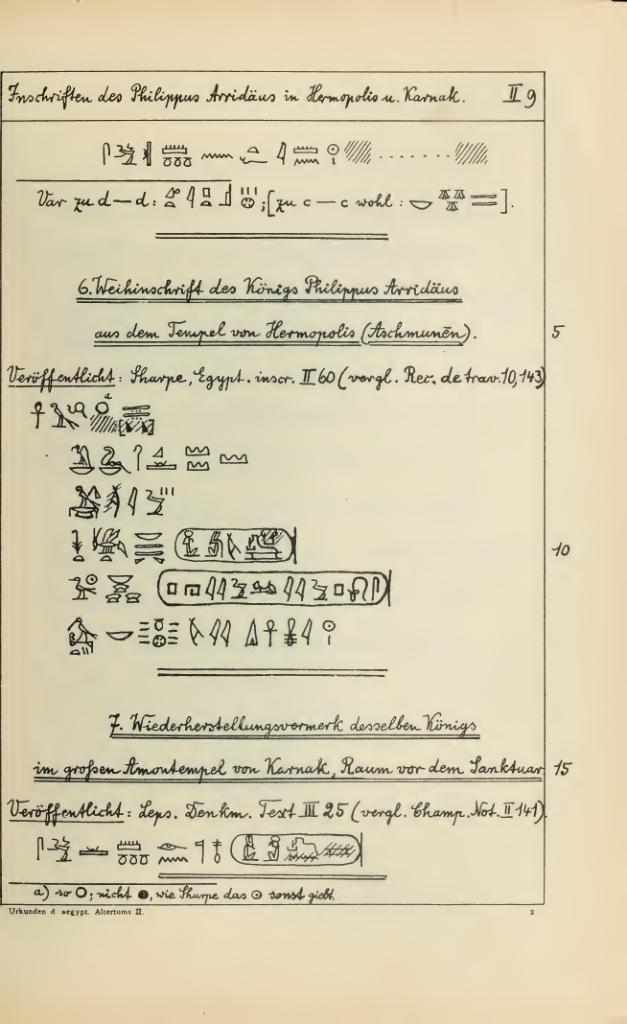circle: (143, 568, 406, 612), (164, 514, 312, 569), (226, 821, 382, 867)
